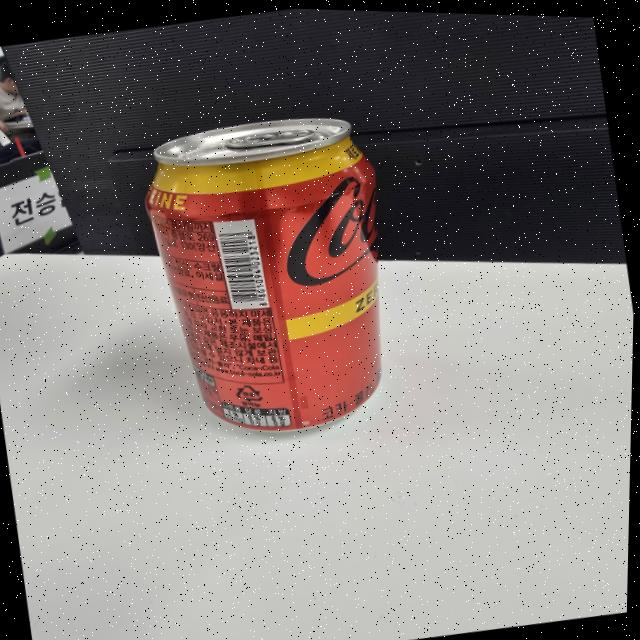can_coke_decaf: (146, 119, 381, 430)
